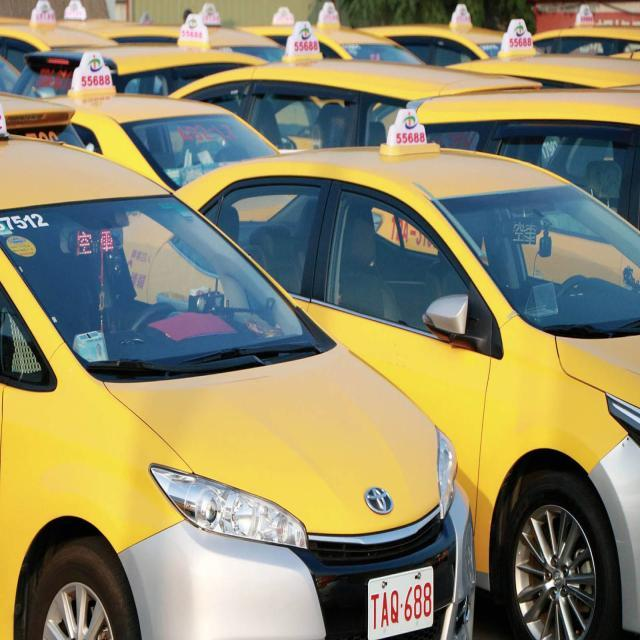taxi: (1, 123, 460, 640), (189, 123, 640, 501), (49, 59, 269, 177), (408, 84, 640, 186)
